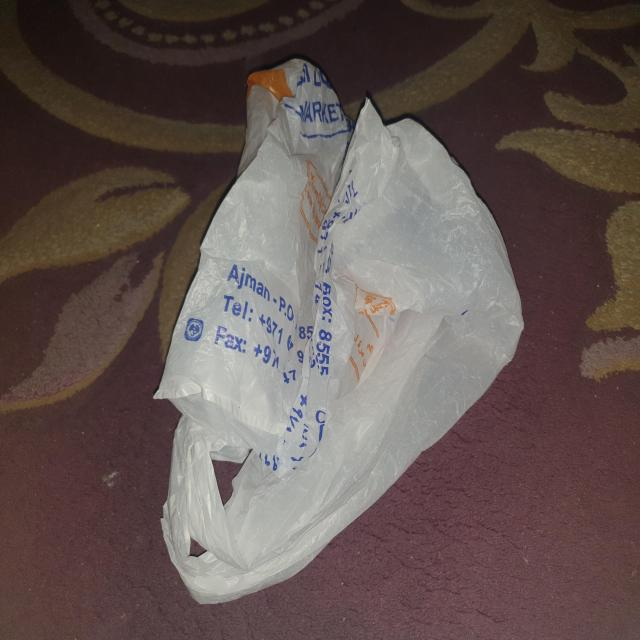plastic bag: (152, 57, 526, 610)
